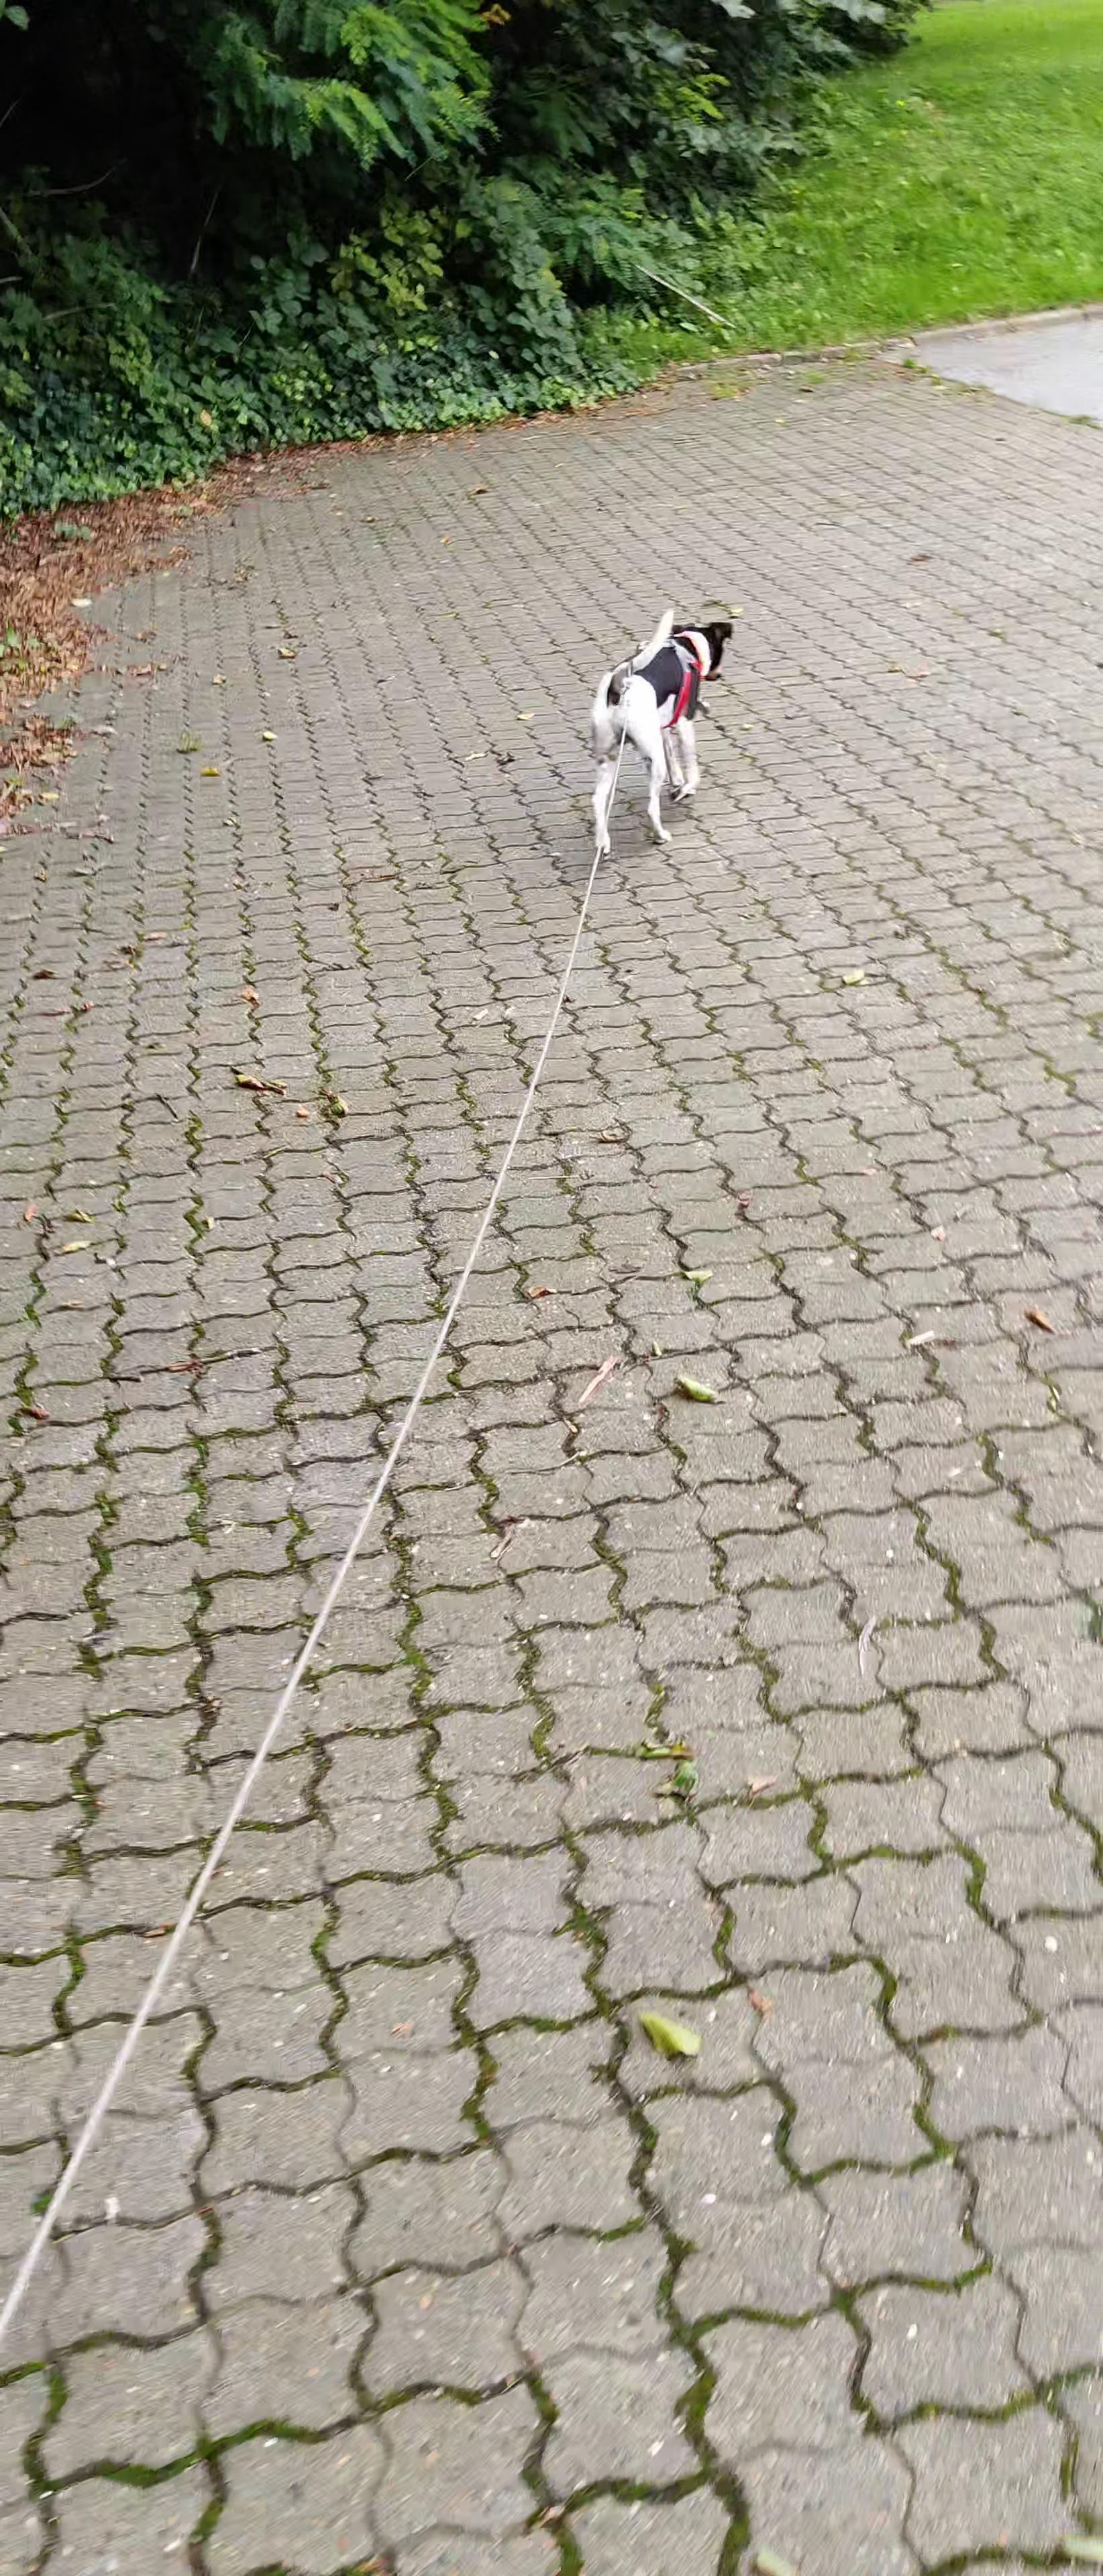Dog: (552, 608, 768, 867)
